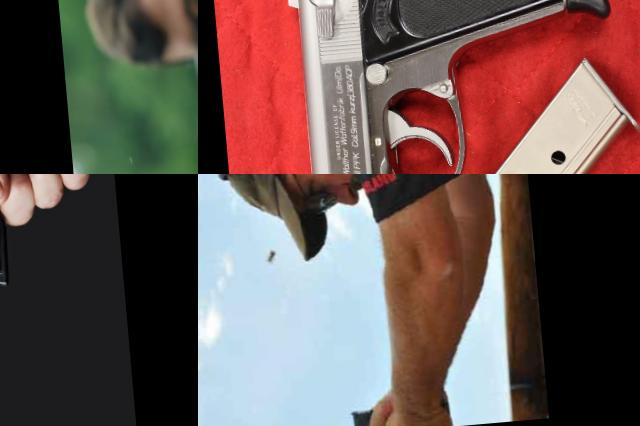handgun: (275, 0, 640, 174), (0, 174, 127, 403), (348, 399, 416, 426)
